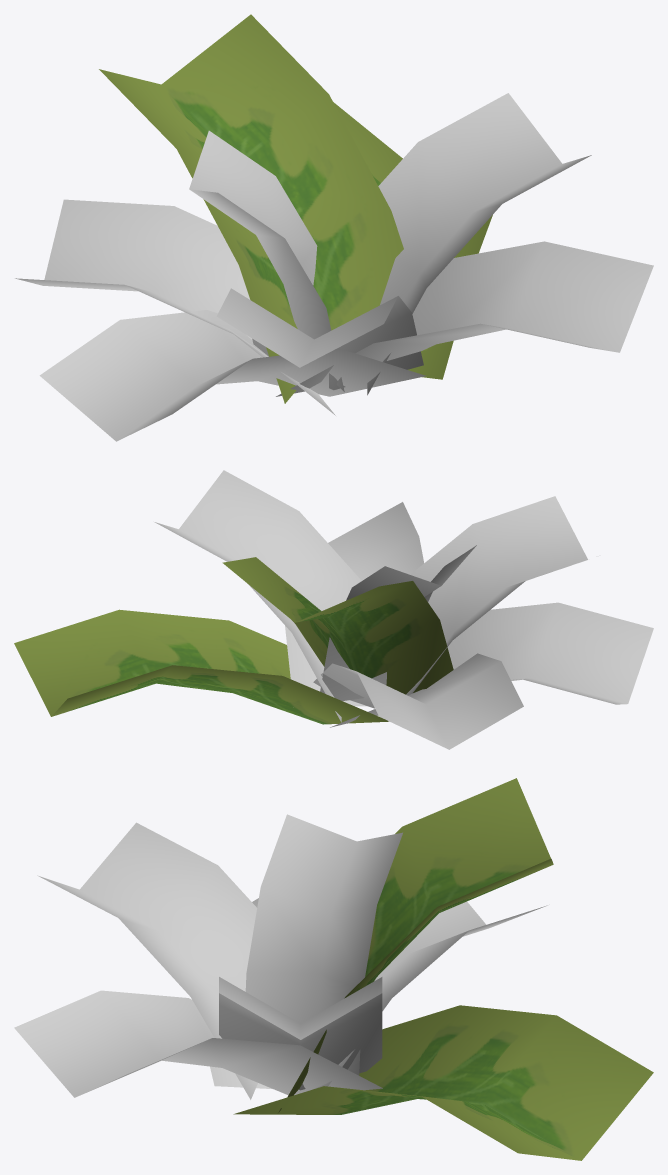
File: Plant_2.FBX
The picture shows the model from 3 angles, top to bottom: view 1: azimuth 30°, elevation 25°; view 2: azimuth 150°, elevation 25°; view 3: azimuth 270°, elevation 25°; orthographic projection. The views are drawn at different scales.
Visible parts, largest first — view 1: Plane004, Plane007, Plane008, Plane001, Plane009, Plane005, Plane003, Plane006; view 2: Plane006, Plane007, Plane004, Plane001, Plane003, Plane009, Plane008, Plane005; view 3: Plane006, Plane005, Plane003, Plane008, Plane004, Plane001, Plane009, Plane007.
Boxes of the visible parts, x1,y1,x2,y2 form: Plane004: [99, 14, 428, 403]; Plane007: [39, 310, 425, 441]; Plane008: [276, 241, 653, 396]; Plane001: [367, 93, 591, 395]; Plane009: [15, 199, 335, 415]; Plane005: [189, 130, 344, 391]; Plane003: [216, 288, 423, 390]; Plane006: [333, 102, 492, 379]; Plane006: [14, 609, 388, 724]; Plane007: [330, 602, 653, 727]; Plane004: [222, 557, 453, 694]; Plane001: [154, 470, 361, 722]; Plane003: [406, 496, 587, 695]; Plane009: [313, 653, 523, 749]; Plane008: [285, 502, 423, 706]; Plane005: [320, 545, 476, 700]; Plane006: [233, 1005, 653, 1160]; Plane005: [245, 814, 402, 1075]; Plane003: [37, 822, 257, 1099]; Plane008: [14, 990, 382, 1097]; Plane004: [278, 778, 553, 1112]; Plane001: [219, 977, 382, 1090]; Plane009: [311, 901, 547, 1089]; Plane007: [210, 898, 272, 1088].
Size of the model in its own units: 4.24 by 3.99 by 1.8.
